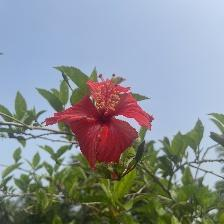hibiscus: (45, 75, 159, 174)
